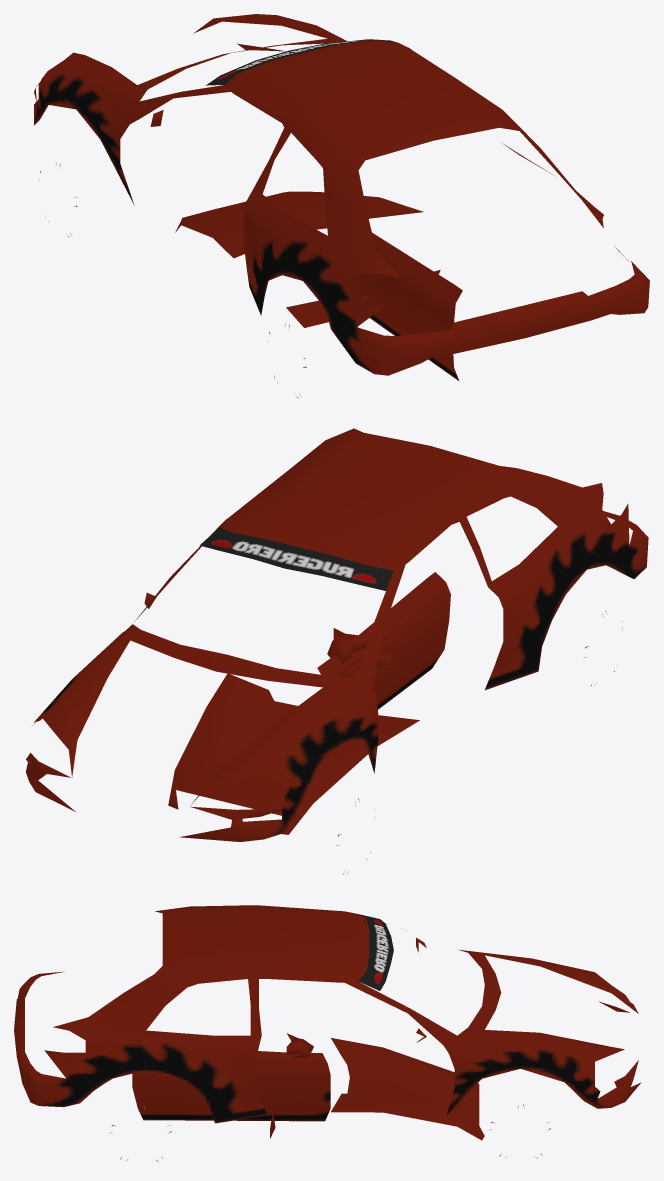
The model's file is car-COMP_Car5.glb.
3 renders of one model, top to bottom at view 1: azimuth 30°, elevation 25°; view 2: azimuth 150°, elevation 25°; view 3: azimuth 270°, elevation 25°, orthographic. The views are drawn at different scales.
Visible parts, largest first — view 1: COMP_Car5; view 2: COMP_Car5; view 3: COMP_Car5.
Boxes of the visible parts, box(x1,y1,x2,y2) form: COMP_Car5: box(34, 14, 649, 398); COMP_Car5: box(26, 428, 648, 874); COMP_Car5: box(14, 905, 641, 1161).
Bounding box in the file's own units: 2.93 × 1.41 × 4.23.
19 materials, 19 textured.
